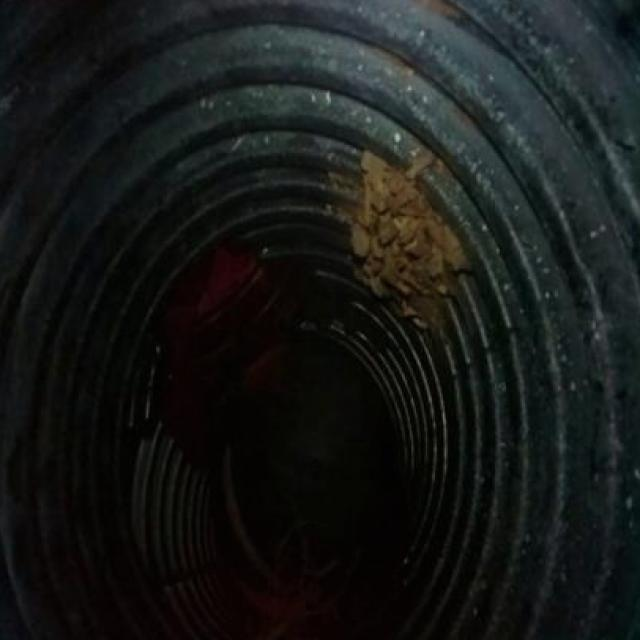dirt: (363, 160, 457, 315)
